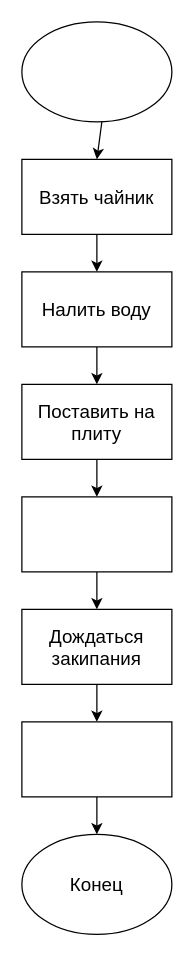
Image size: 194x956. Some labels were removed from this diagram. Each missing label, with the box of its shape:
Включить плиту: (21, 496, 172, 572)
Налить в чашку: (21, 721, 172, 797)
Начало: (21, 21, 172, 122)
